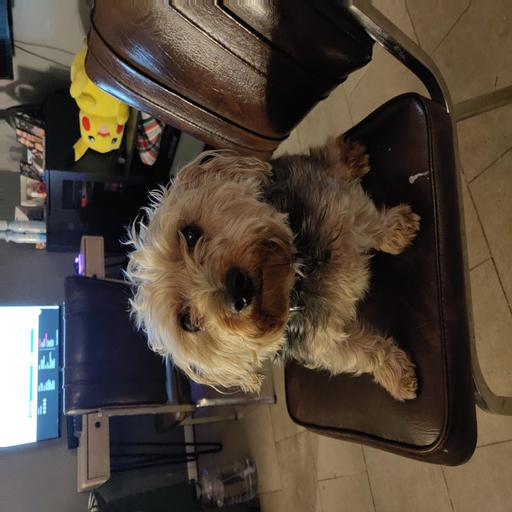dog: (133, 127, 398, 392)
